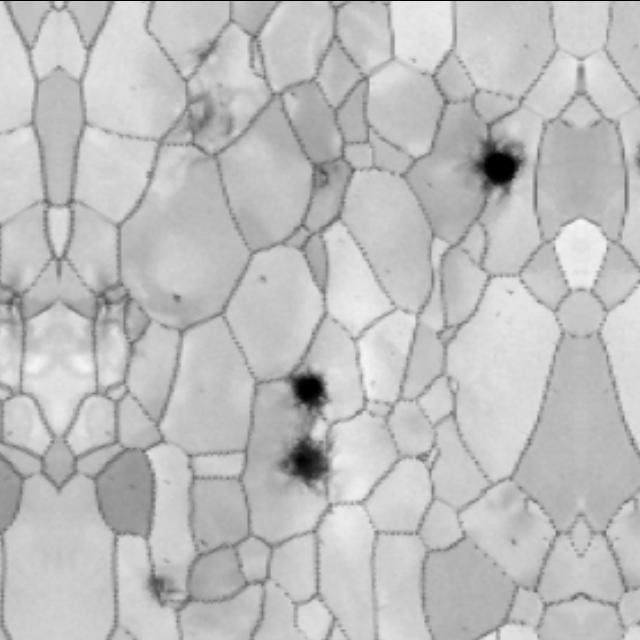good_void: (179, 38, 243, 147), (467, 127, 530, 203), (273, 428, 338, 496), (140, 553, 187, 613), (282, 368, 329, 424), (301, 159, 340, 189), (165, 291, 184, 305), (254, 272, 269, 285), (196, 535, 208, 551), (506, 535, 521, 546), (503, 285, 514, 296)
